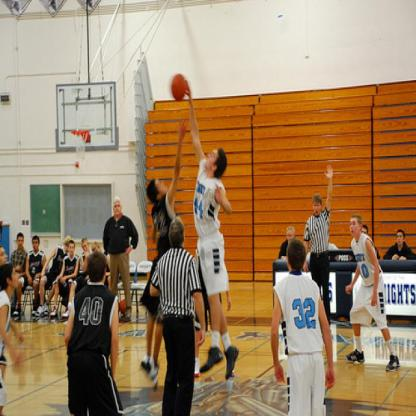basketball: (166, 68, 188, 100)
rim: (71, 129, 89, 136)
